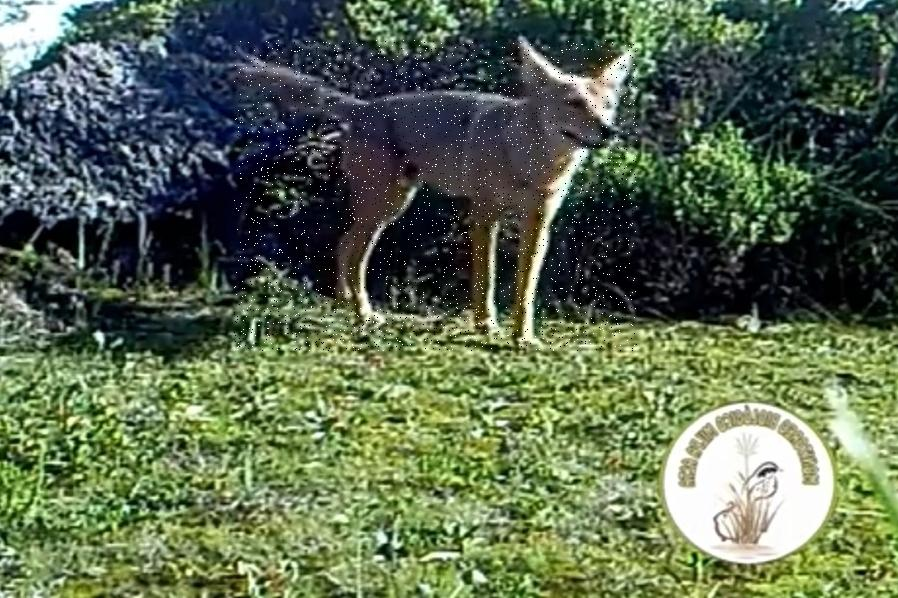Coyote: (234, 40, 637, 351)
